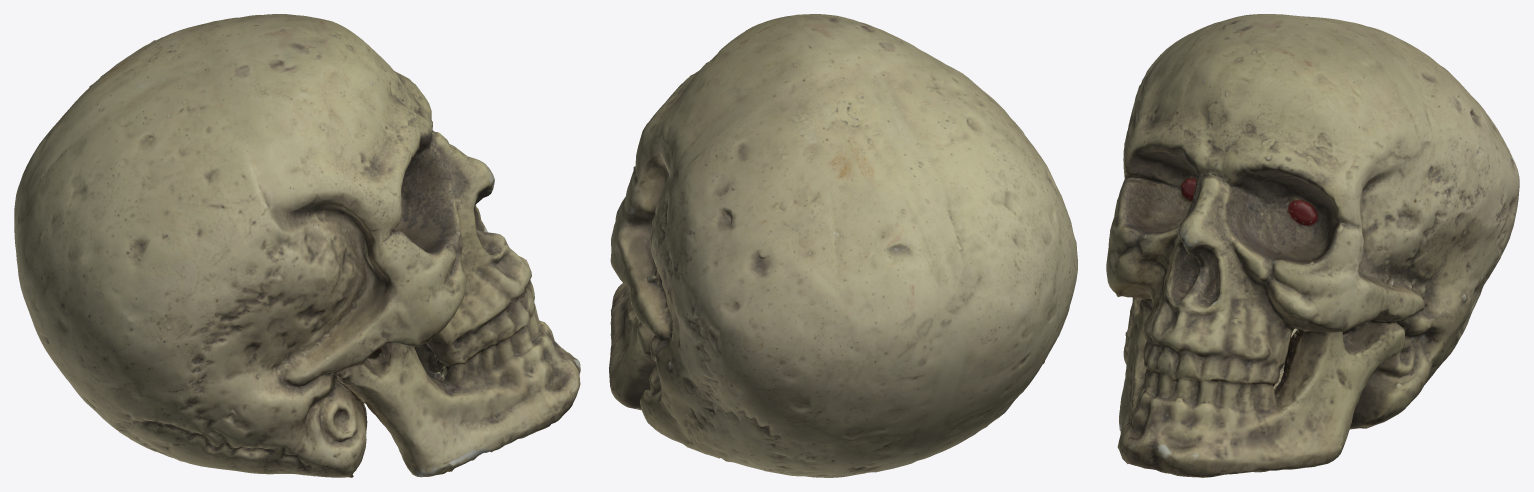
The model's file is kinhdi.glb.
3 renders of one model, left to right at view 1: azimuth 30°, elevation 25°; view 2: azimuth 150°, elevation 25°; view 3: azimuth 270°, elevation 25°, orthographic. The views are drawn at different scales.
Parts seen in each view (by area): view 1: Object_2; view 2: Object_2; view 3: Object_2.
Part boxes in pixels (x1=…): Object_2: x1=14, y1=14, x2=580, y2=477; Object_2: x1=609, y1=14, x2=1077, y2=477; Object_2: x1=1106, y1=14, x2=1519, y2=477.
Size of the model in its own units: 3.17 by 2.6 by 2.6.
Materials: 1 (1 with a texture image).
